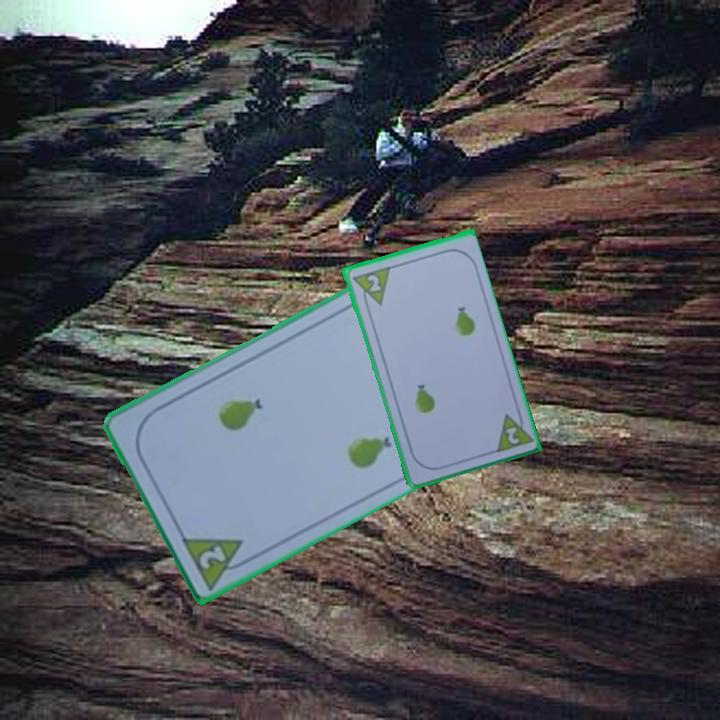2p: (491, 405, 534, 456), (348, 263, 392, 311), (195, 541, 229, 572)
